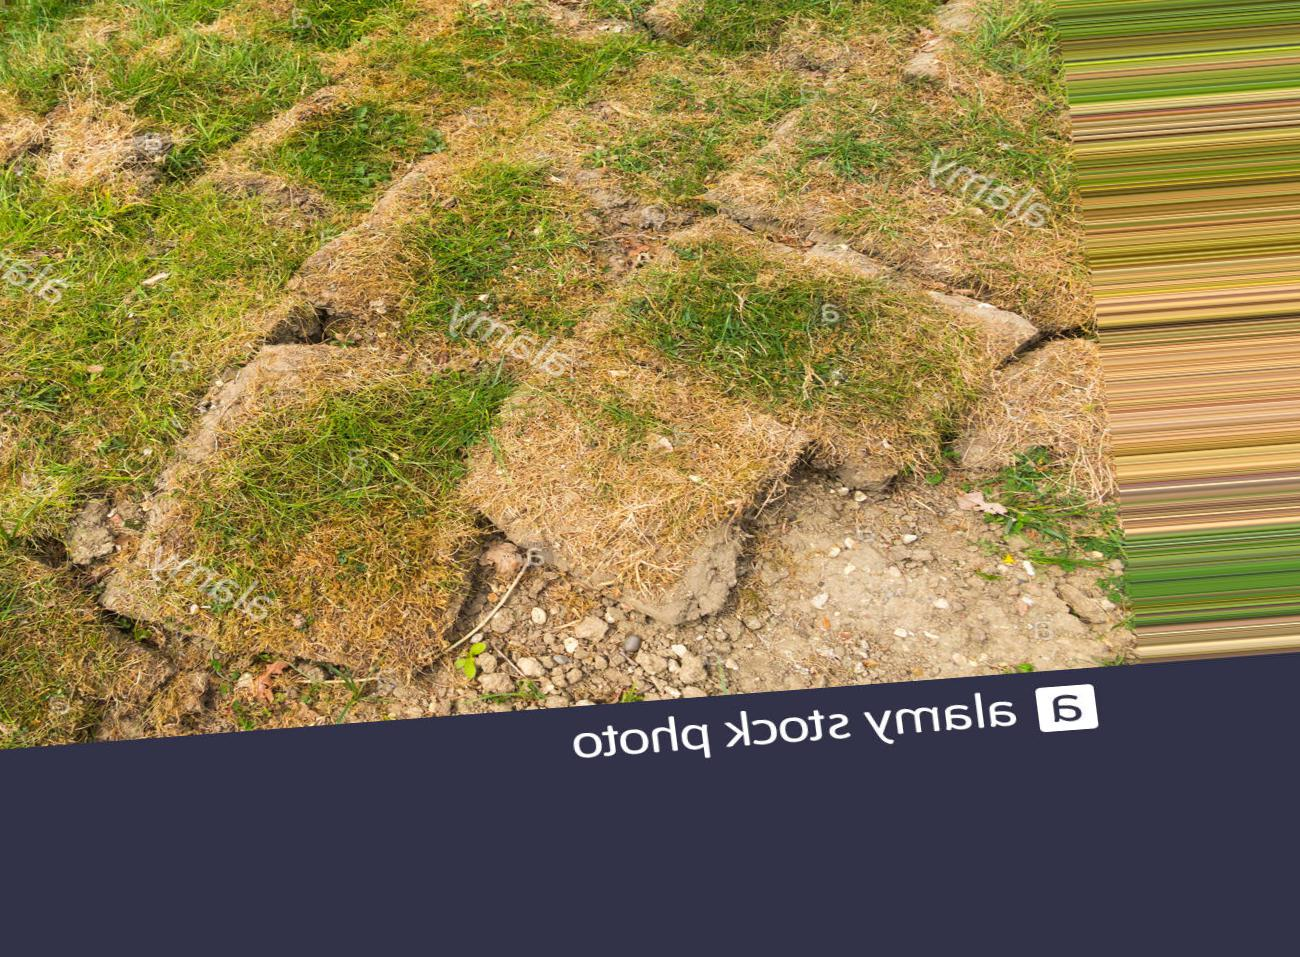patch: (551, 382, 730, 684), (740, 490, 976, 664), (222, 581, 534, 695)
